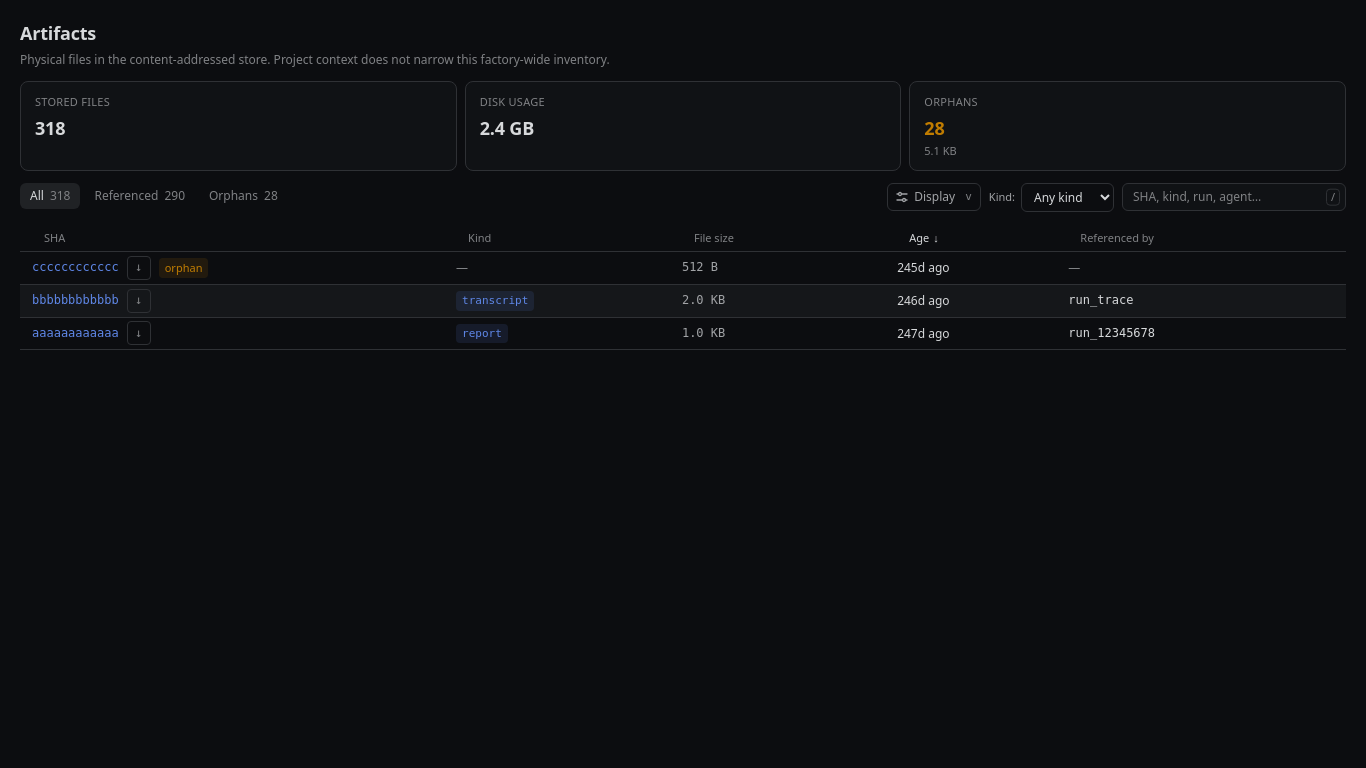
Artifact rows inspect on click, download on demand (WM-699) › the SHA is a deep link into the inspector, not a download
The image size is (1366, 768).
Step 1. Click the link "aaaaaaaaaaaa" → (75, 333), box [32,325,119,342]
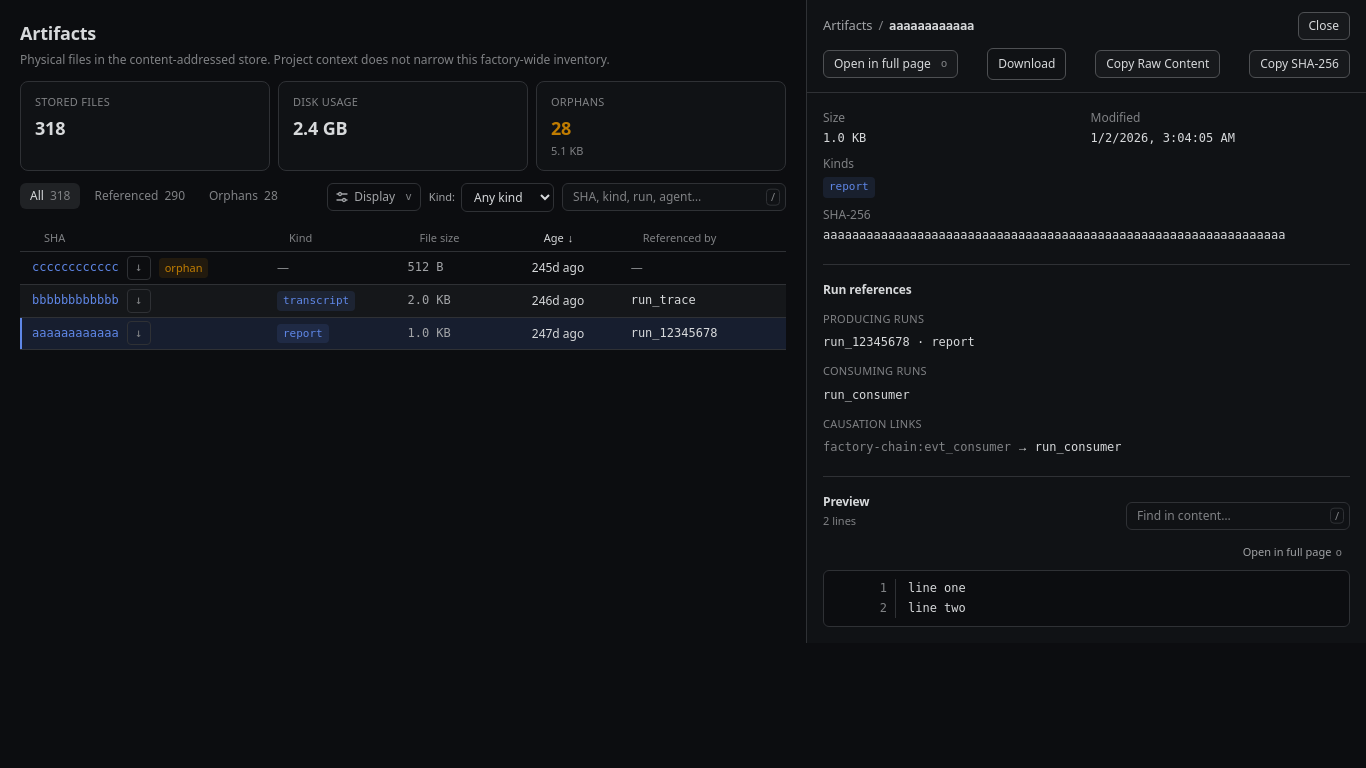
Result: the element named "Artifact content" is shown at [823,570,1350,627]
